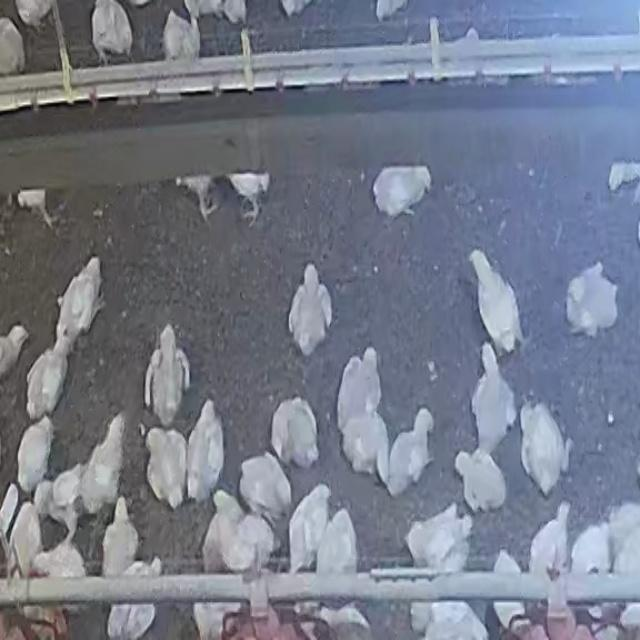chicken: (335, 351, 389, 481), (469, 248, 525, 355), (203, 490, 276, 572), (469, 346, 517, 458), (79, 412, 128, 514), (519, 399, 570, 496), (404, 503, 472, 574), (384, 408, 436, 498), (144, 326, 191, 424), (51, 257, 100, 346), (285, 265, 333, 354), (112, 556, 164, 638), (564, 261, 619, 338), (186, 400, 224, 503), (287, 484, 331, 572), (237, 452, 291, 523), (144, 426, 190, 508), (29, 547, 88, 610), (270, 397, 319, 471), (454, 448, 508, 514), (371, 159, 429, 220), (528, 501, 570, 578), (26, 344, 68, 420), (16, 411, 53, 495), (101, 496, 140, 573), (317, 506, 359, 576), (490, 541, 523, 630), (90, 0, 134, 65), (8, 500, 43, 577), (43, 472, 82, 537), (606, 502, 640, 572), (227, 171, 271, 225), (568, 522, 610, 574), (176, 174, 220, 222), (162, 6, 199, 60), (14, 188, 58, 230), (1, 17, 27, 75), (607, 160, 640, 202), (15, 0, 56, 30), (375, 0, 408, 22), (220, 0, 247, 24)
